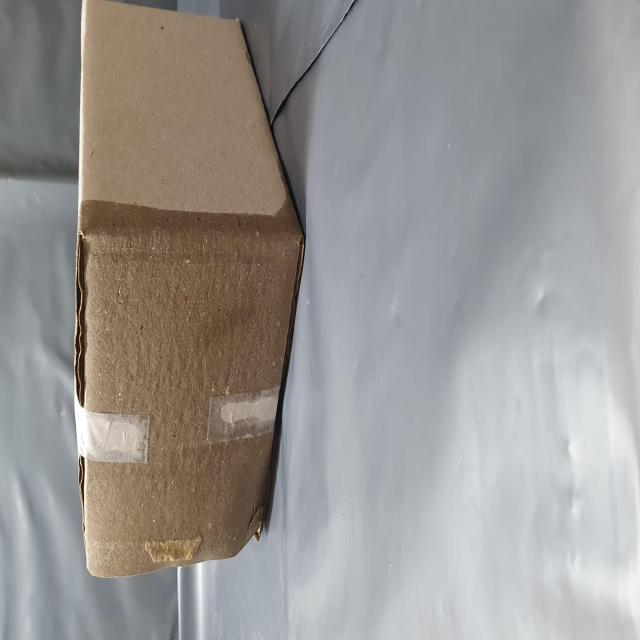wet: (28, 133, 360, 535)
